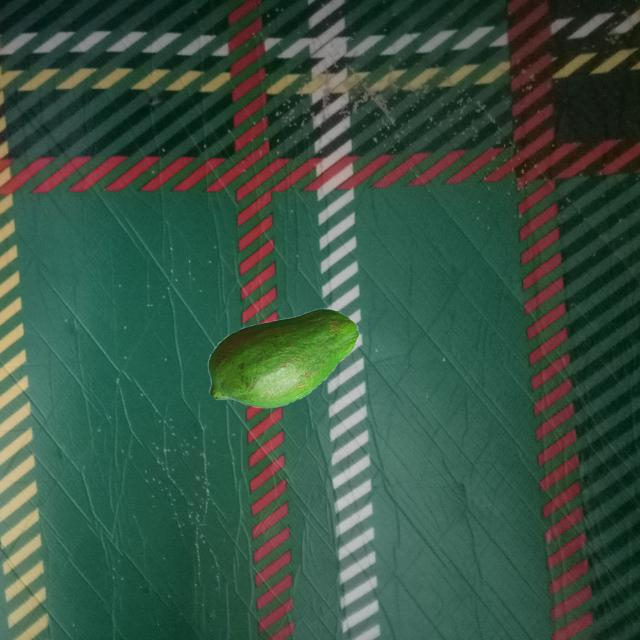Pepaya unrippen: (205, 310, 371, 406)
